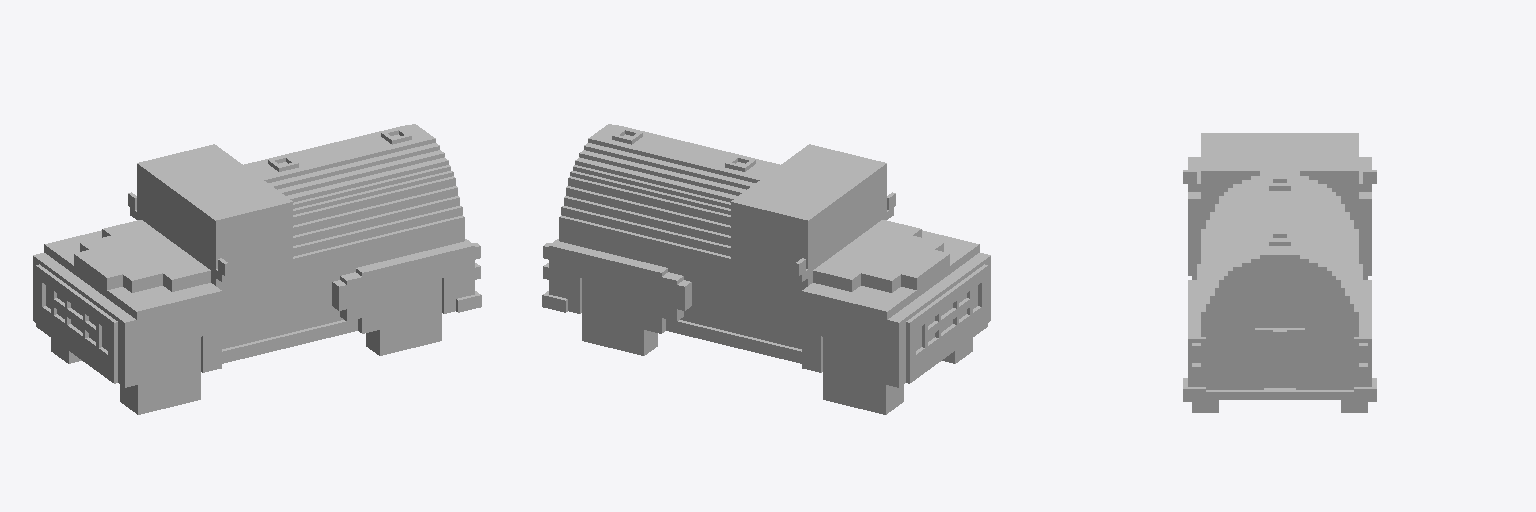
File: alll cars3-64.obj
3 renders of one model, left to right at view 1: azimuth 30°, elevation 25°; view 2: azimuth 150°, elevation 25°; view 3: azimuth 270°, elevation 25°, orthographic.
Visible parts, largest first — view 1: object 1; view 2: object 1; view 3: object 1.
Boxes of the visible parts, x1=… form: object 1: x1=33, y1=124, x2=481, y2=414; object 1: x1=542, y1=124, x2=990, y2=414; object 1: x1=1183, y1=133, x2=1376, y2=412.
Bounding box in the file's own units: 9.3 × 4.3 × 4.3.